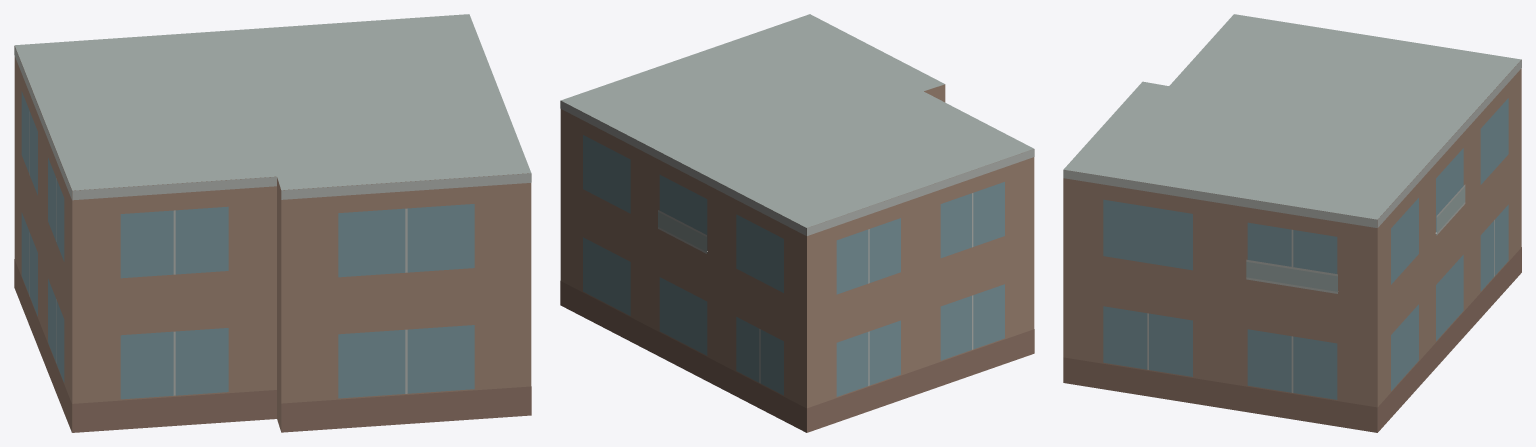
The model's file is survey-upis-32712688.glb.
3 renders of one model, left to right at view 1: azimuth 30°, elevation 25°; view 2: azimuth 150°, elevation 25°; view 3: azimuth 270°, elevation 25°, orthographic. The views are drawn at different scales.
Parts seen in each view (by area): view 1: survey-upis-32712688.tmp; view 2: survey-upis-32712688.tmp; view 3: survey-upis-32712688.tmp.
Boxes of the visible parts, x1,y1,x2,y2 form: survey-upis-32712688.tmp: (14, 14, 531, 432); survey-upis-32712688.tmp: (560, 14, 1034, 432); survey-upis-32712688.tmp: (1063, 14, 1521, 432).
Bounding box in the file's own units: 12.63 × 6.1 × 11.89.
